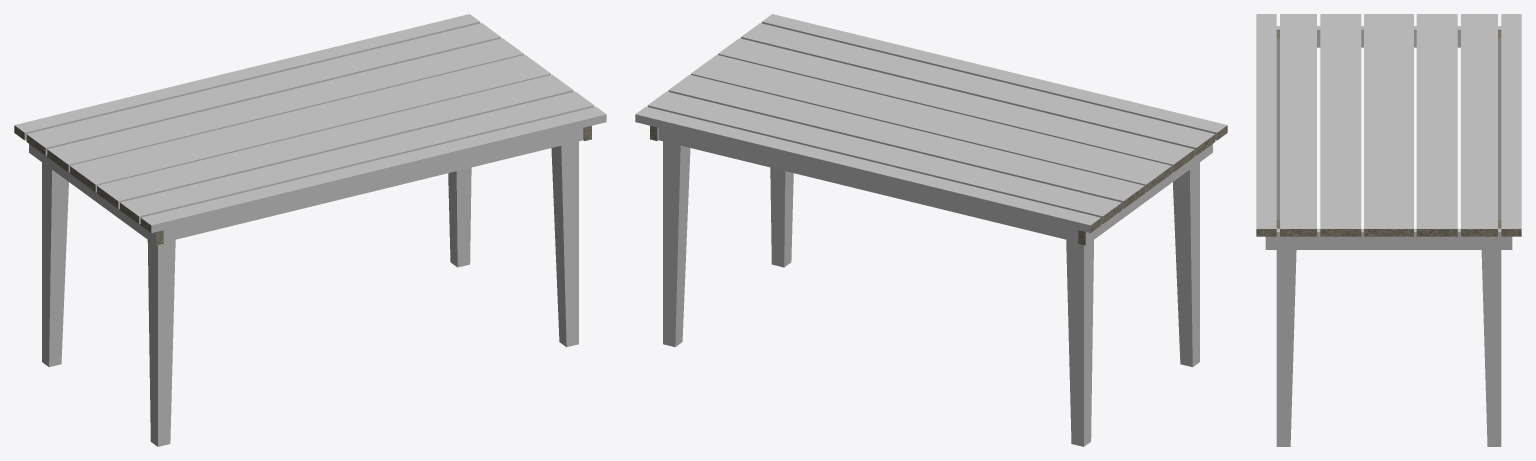
File: TableA.fbx
The picture shows the model from 3 angles, left to right: view 1: azimuth 30°, elevation 25°; view 2: azimuth 150°, elevation 25°; view 3: azimuth 270°, elevation 25°; orthographic projection. The views are drawn at different scales.
Visible parts, largest first — view 1: TableA; view 2: TableA; view 3: TableA.
Part boxes in pixels (left/top/right/bottom): TableA: left=14, top=14, right=606, bottom=446; TableA: left=635, top=14, right=1227, bottom=446; TableA: left=1256, top=14, right=1521, bottom=446.
Bounding box in the file's own units: 193 × 94.46 × 101.
